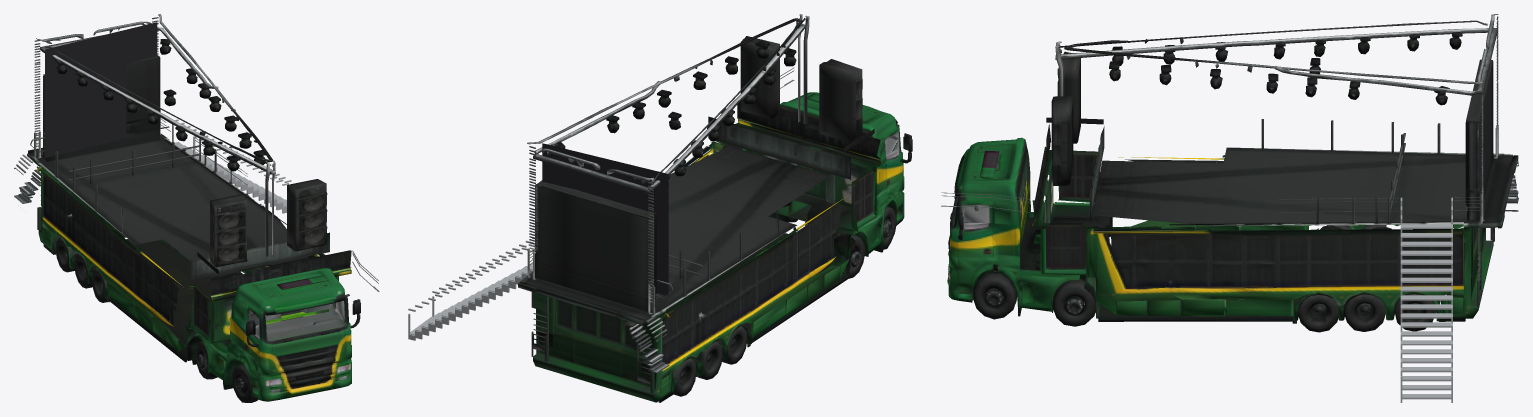
Rendered from palanque-0.glb.
3 renders of one model, left to right at view 1: azimuth 30°, elevation 25°; view 2: azimuth 150°, elevation 25°; view 3: azimuth 270°, elevation 25°, orthographic. The views are drawn at different scales.
Visible parts, largest first — view 1: Palanque, Backdrop, Stairs; view 2: Palanque, Backdrop, Stairs; view 3: Palanque, Stairs.
Boxes of the visible parts, bbox=[...] form: Palanque: bbox=[14, 14, 379, 402]; Backdrop: bbox=[45, 22, 157, 157]; Stairs: bbox=[172, 119, 291, 213]; Palanque: bbox=[518, 14, 912, 402]; Backdrop: bbox=[542, 143, 668, 295]; Stairs: bbox=[408, 238, 534, 340]; Palanque: bbox=[941, 14, 1518, 332]; Stairs: bbox=[1400, 197, 1452, 402].
Size of the model in its own units: 11.87 by 9.57 by 19.87.
3 materials, 1 textured.
